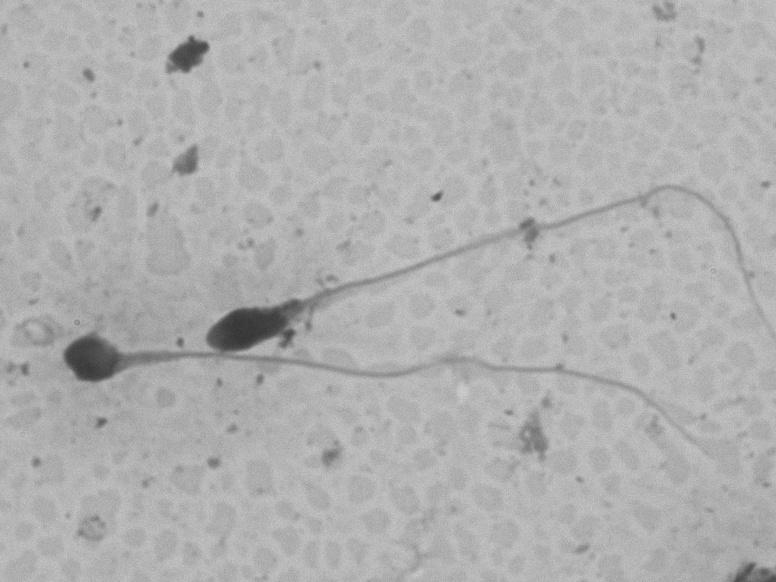Abnormal: (193, 170, 767, 355), (44, 320, 715, 470)
